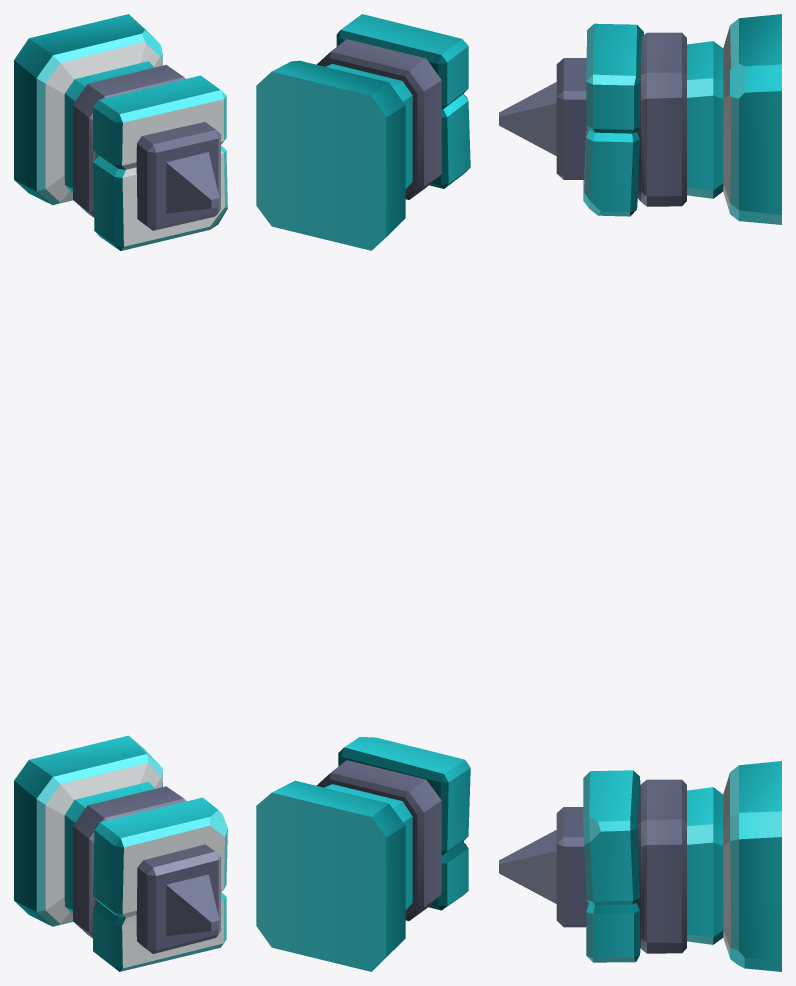
The model's file is frozen-gate-posts.obj.
3 views of the same model, side by side, from view 1: azimuth 30°, elevation 25°; view 2: azimuth 150°, elevation 25°; view 3: azimuth 270°, elevation 25° (orthographic). The views are drawn at different scales.
Size of the model in its own units: 2.51 by 16.15 by 4.56.
1 material, 1 textured.
